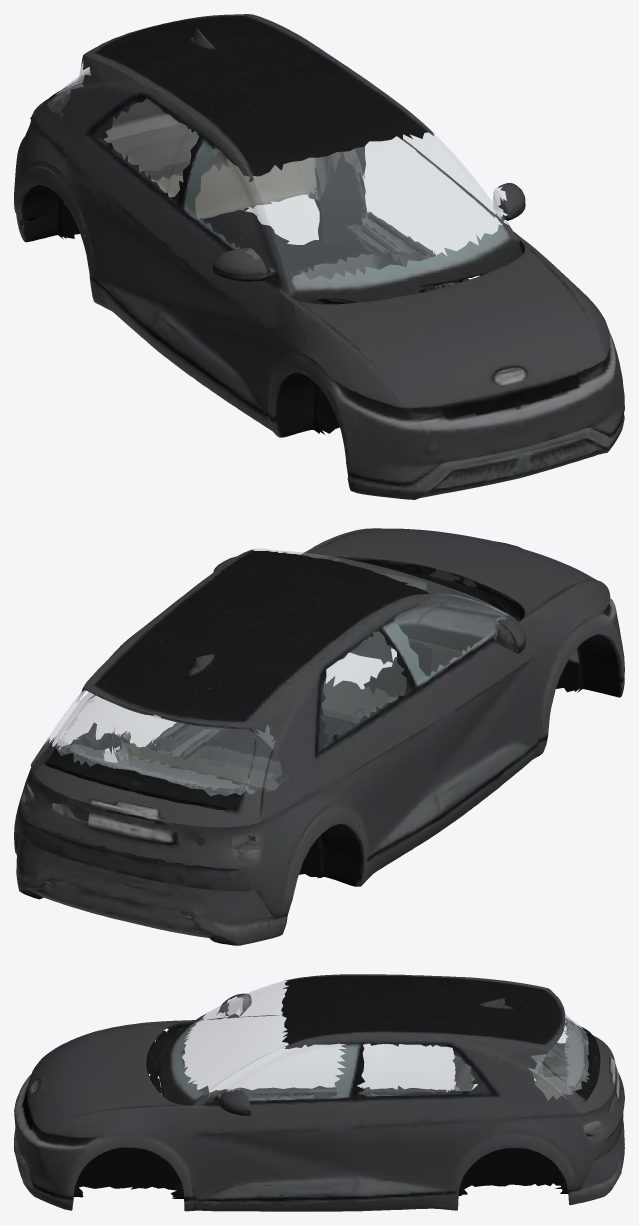
File: ioniq5_t2.glb
The picture shows the model from 3 angles, top to bottom: view 1: azimuth 30°, elevation 25°; view 2: azimuth 150°, elevation 25°; view 3: azimuth 270°, elevation 25°; orthographic projection. The views are drawn at different scales.
Visible parts, largest first — view 1: paint, glass; view 2: paint, glass; view 3: paint, glass.
Boxes of the visible parts, <box> form: paint: <box>14,14,624,499</box>; glass: <box>48,63,507,280</box>; paint: <box>14,528,624,945</box>; glass: <box>45,548,508,795</box>; paint: <box>14,974,624,1211</box>; glass: <box>180,981,589,1100</box>.
Bounding box in the file's own units: 2.01 × 1.39 × 4.64.
Materials: 2 (1 with a texture image).
